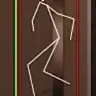hacks_3: (14, 1, 79, 96)
